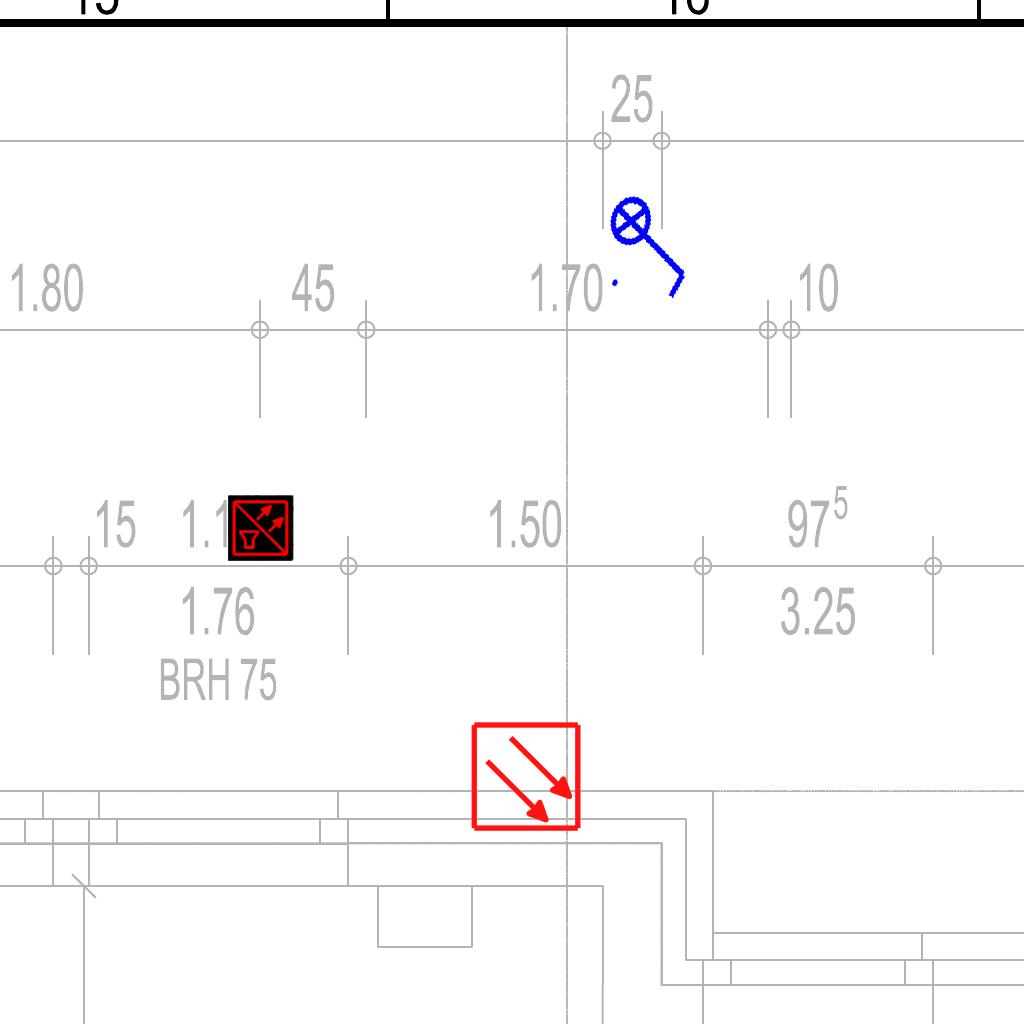Ausschalter_beleuchtet: (591, 178, 713, 310)
OKW_Multisensormelder_(Kombination_optischer_Rauch-Kahlenmonoxid_Waerme-Melder): (228, 495, 294, 561)
RMO_Rauchmelder_optischer: (470, 720, 583, 833)
